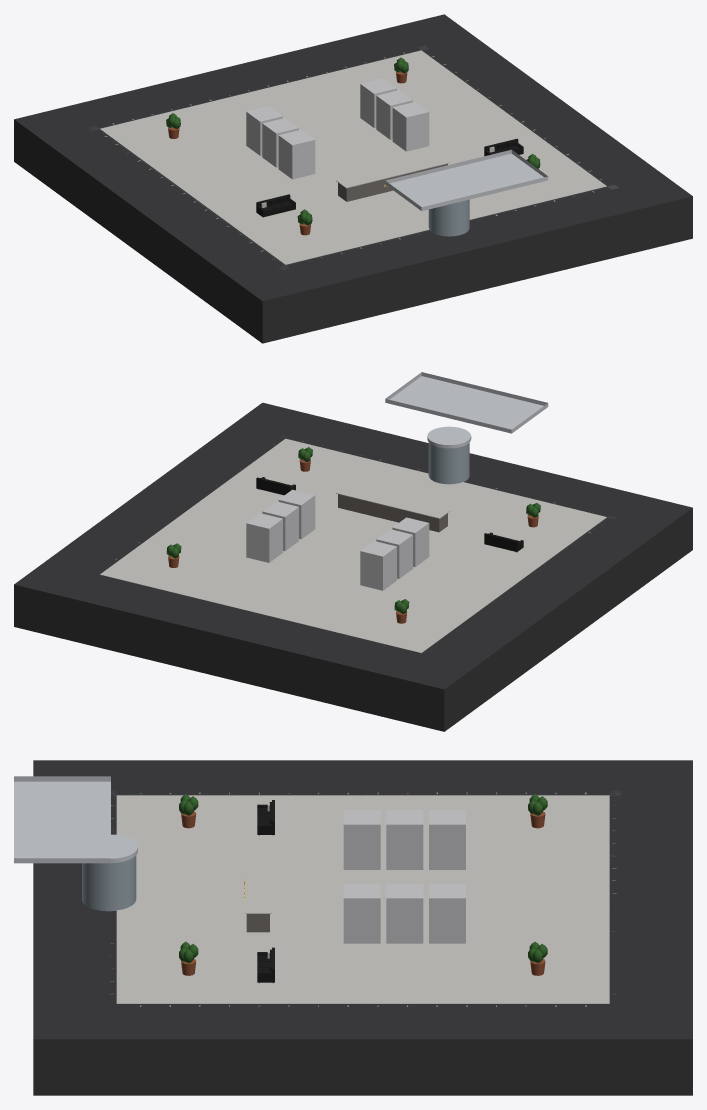
Rendered from bina_16_ic.glb.
3 views of the same model, one above another, from view 1: azimuth 30°, elevation 25°; view 2: azimuth 150°, elevation 25°; view 3: azimuth 270°, elevation 25° (orthographic). The views are drawn at different scales.
Visible parts, largest first — view 1: P16_ic; view 2: P16_ic; view 3: P16_ic.
Boxes of the visible parts, x1,y1,x2,y2 form: P16_ic: [14, 14, 692, 343]; P16_ic: [14, 372, 692, 731]; P16_ic: [14, 760, 692, 1095].
Size of the model in its own units: 34 by 7.9 by 35.
